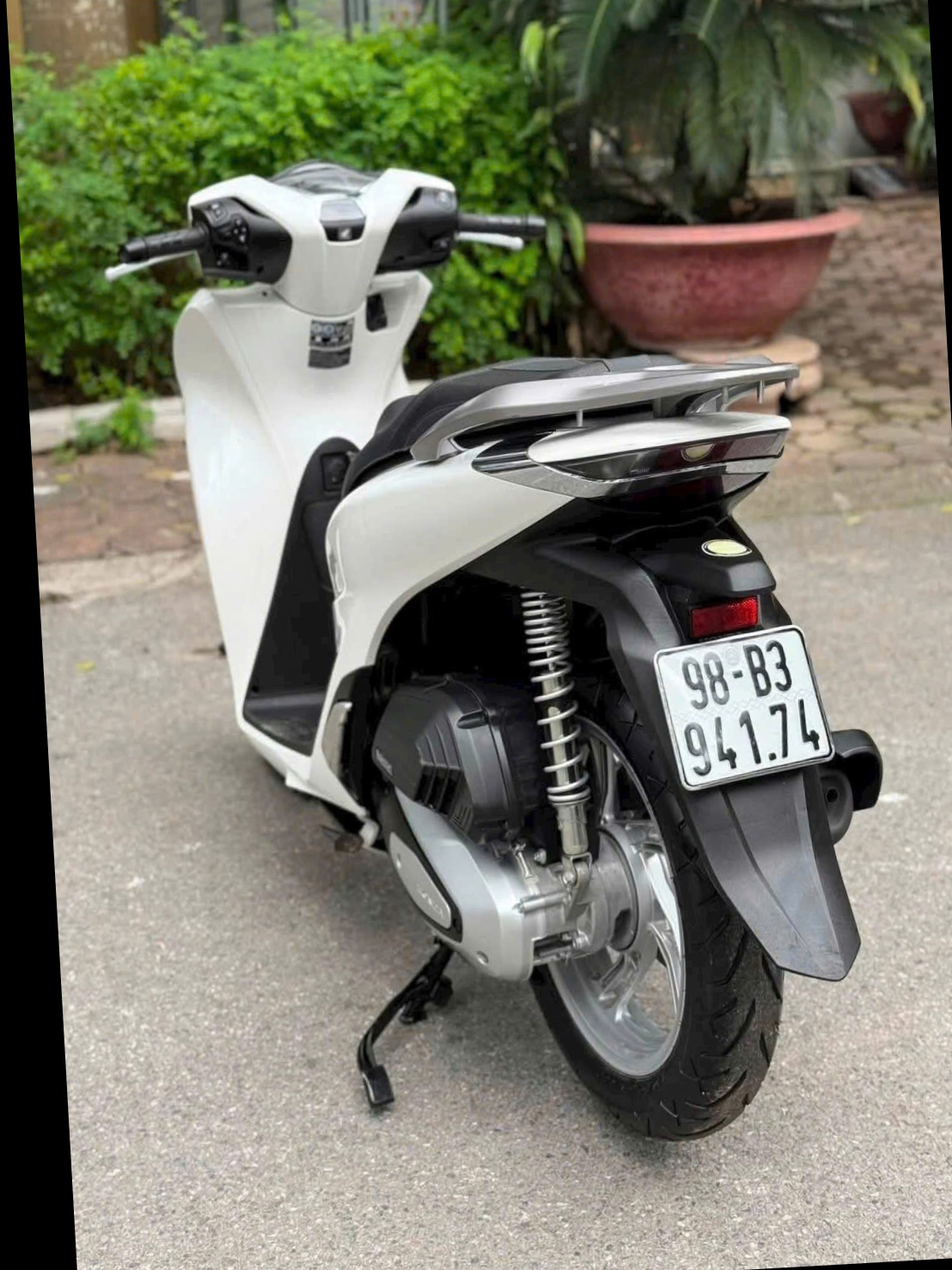Bien-so: (604, 620, 797, 791)
